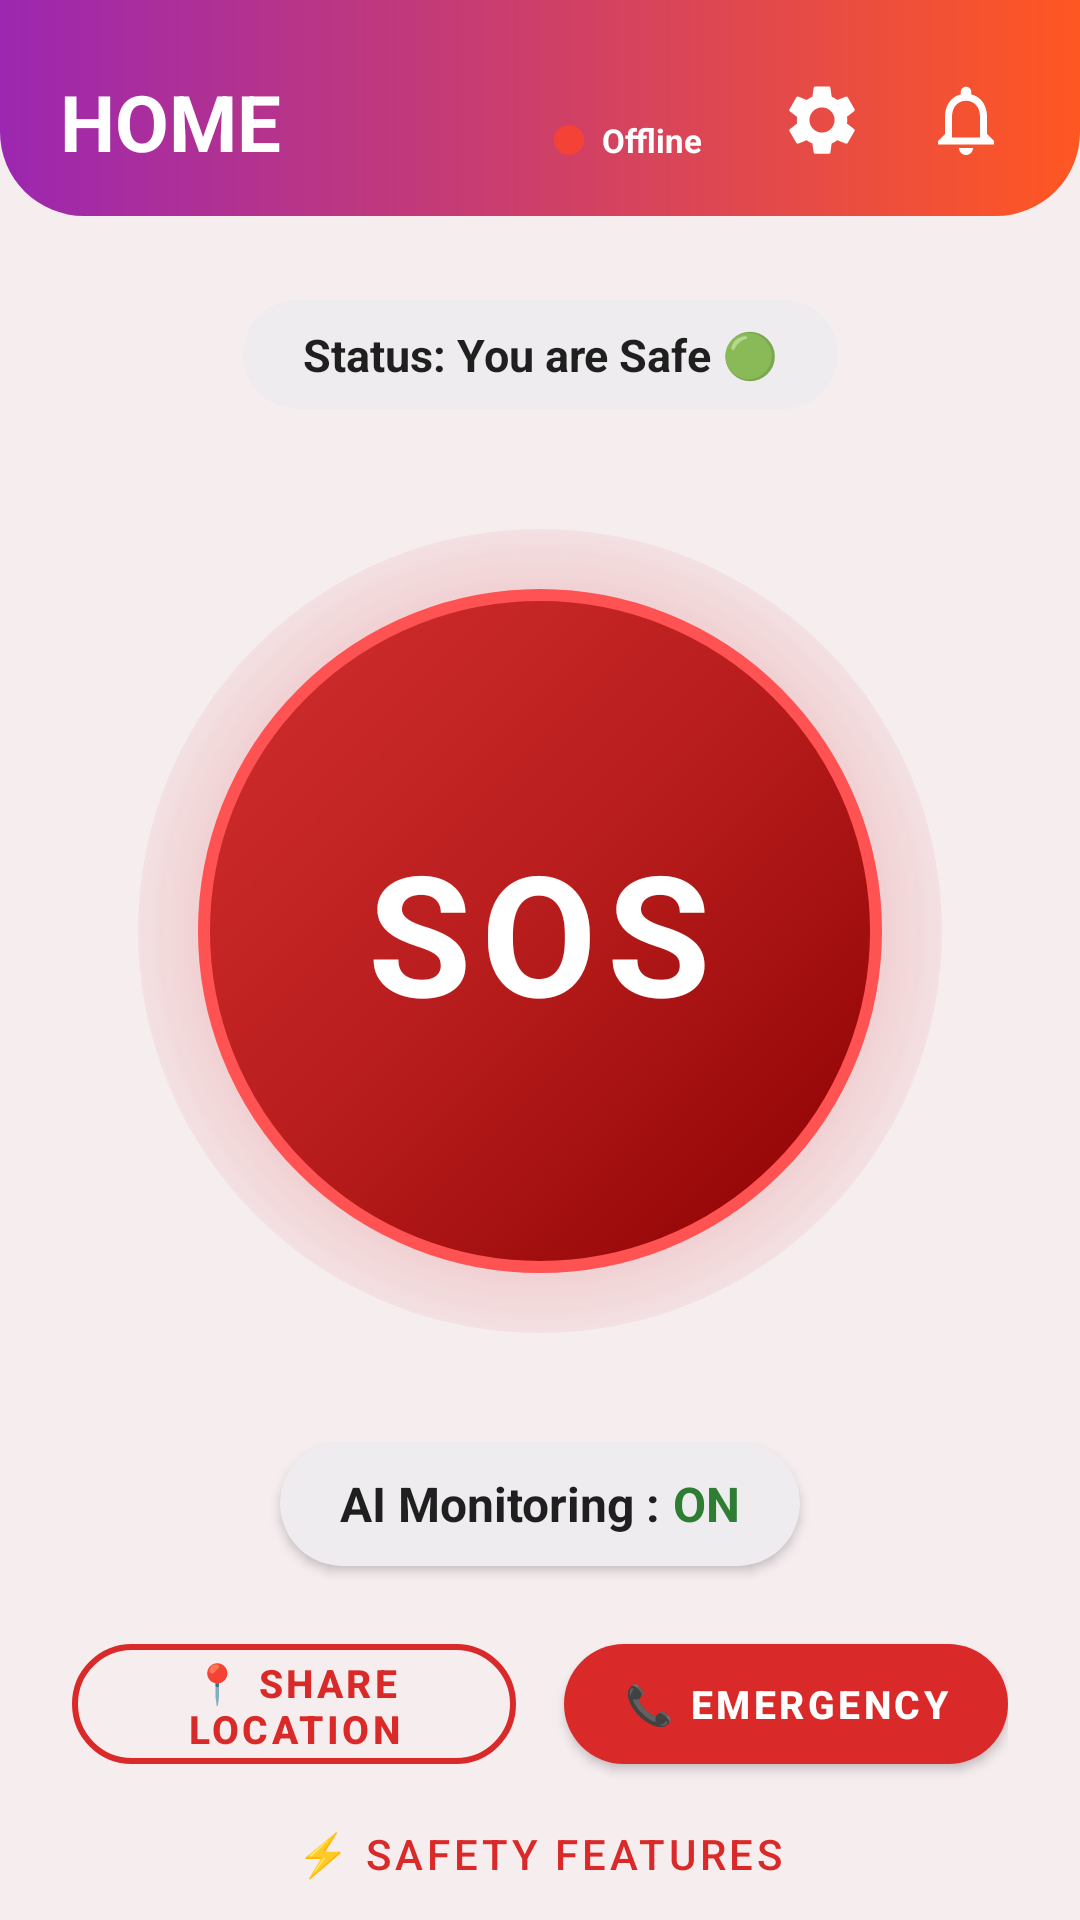

Icons on this 1080 × 1920 Android screen, each with its box as region(x1, y1, x2, y2):
bell: region(938, 86, 994, 155)
settings: region(789, 86, 855, 154)
